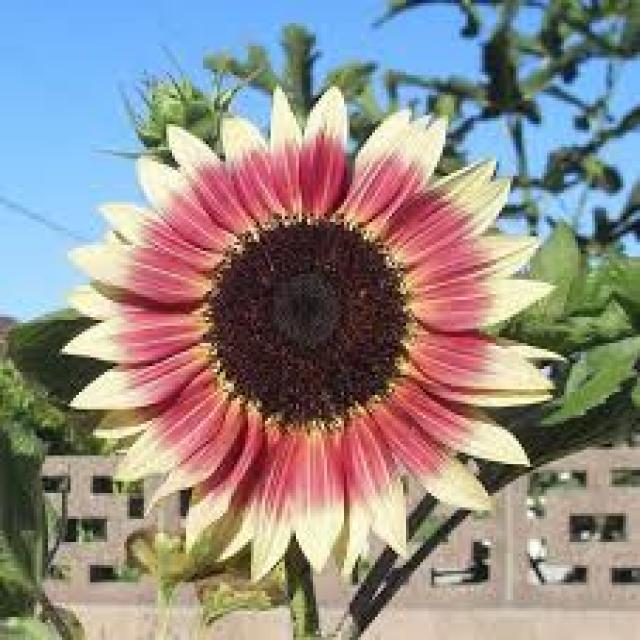sunflower: (61, 82, 577, 589)
